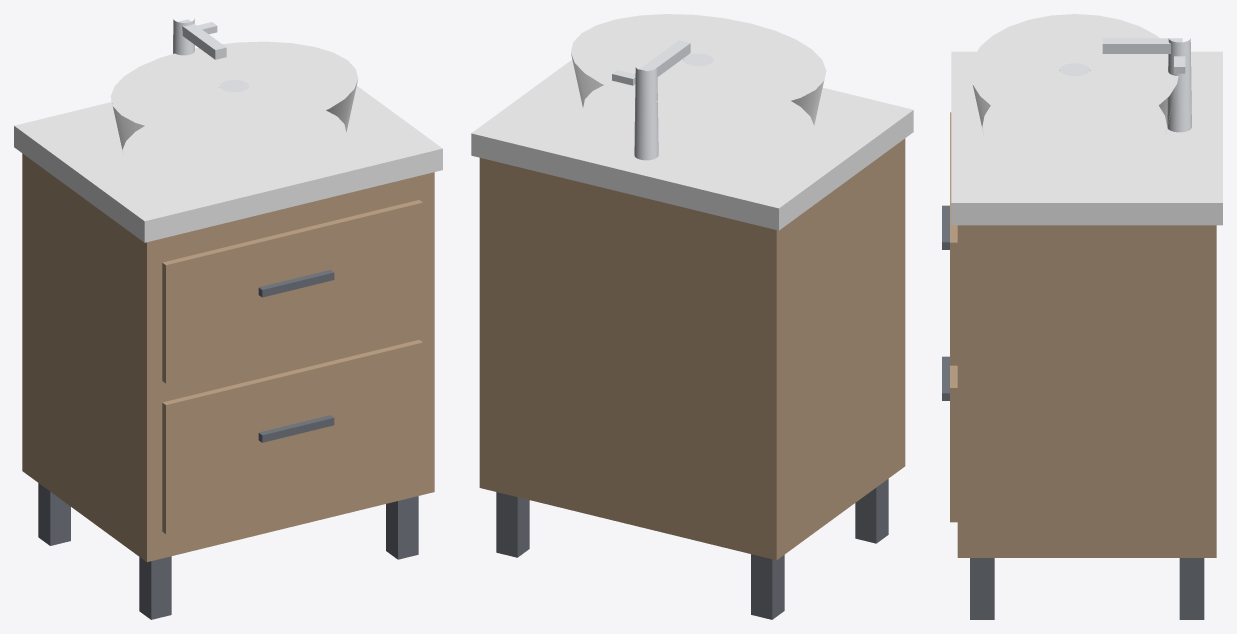
The model's file is Sink1.glb.
3 renders of one model, left to right at view 1: azimuth 30°, elevation 25°; view 2: azimuth 150°, elevation 25°; view 3: azimuth 270°, elevation 25°, orthographic. The views are drawn at different scales.
Parts seen in each view (by area): view 1: CabinetBody, CounterTop, DrawerBot, DrawerTop, Basin, Leg_-0.24_0.17, Leg_0.24_0.17, Leg_-0.24_-0.17, HandleTop, HandleBot, FaucetSpout; view 2: CabinetBody, CounterTop, Basin, FaucetStem, Leg_-0.24_-0.17, Leg_0.24_-0.17, Leg_-0.24_0.17, FaucetSpout; view 3: CabinetBody, CounterTop, Basin, FaucetStem, Leg_0.24_-0.17, Leg_0.24_0.17, DrawerTop, DrawerBot, FaucetSpout.
Boxes of the visible parts, <box> form: CabinetBody: <box>22,153,434,561</box>; CounterTop: <box>14,86,442,242</box>; DrawerBot: <box>162,340,422,534</box>; DrawerTop: <box>162,200,422,383</box>; Basin: <box>110,41,357,150</box>; Leg_-0.24_0.17: <box>139,556,171,619</box>; Leg_0.24_0.17: <box>386,496,418,559</box>; Leg_-0.24_-0.17: <box>38,483,70,545</box>; HandleTop: <box>258,270,334,297</box>; HandleBot: <box>258,415,334,442</box>; FaucetSpout: <box>178,19,226,59</box>; CabinetBody: <box>479,138,905,560</box>; CounterTop: <box>471,59,913,230</box>; Basin: <box>571,14,826,125</box>; FaucetStem: <box>634,67,658,160</box>; Leg_-0.24_-0.17: <box>751,554,784,619</box>; Leg_0.24_-0.17: <box>496,492,529,557</box>; Leg_-0.24_0.17: <box>855,479,888,543</box>; FaucetSpout: <box>639,40,690,76</box>; CabinetBody: <box>957,225,1216,557</box>; CounterTop: <box>951,51,1222,225</box>; Basin: <box>970,14,1178,133</box>; FaucetStem: <box>1167,38,1191,132</box>; Leg_0.24_-0.17: <box>1179,558,1204,619</box>; Leg_0.24_0.17: <box>970,558,994,619</box>; DrawerTop: <box>950,112,957,365</box>; DrawerBot: <box>950,365,957,522</box>; FaucetSpout: <box>1102,38,1182,53</box>.
Size of the model in its own units: 0.58 by 0.92 by 0.455.
